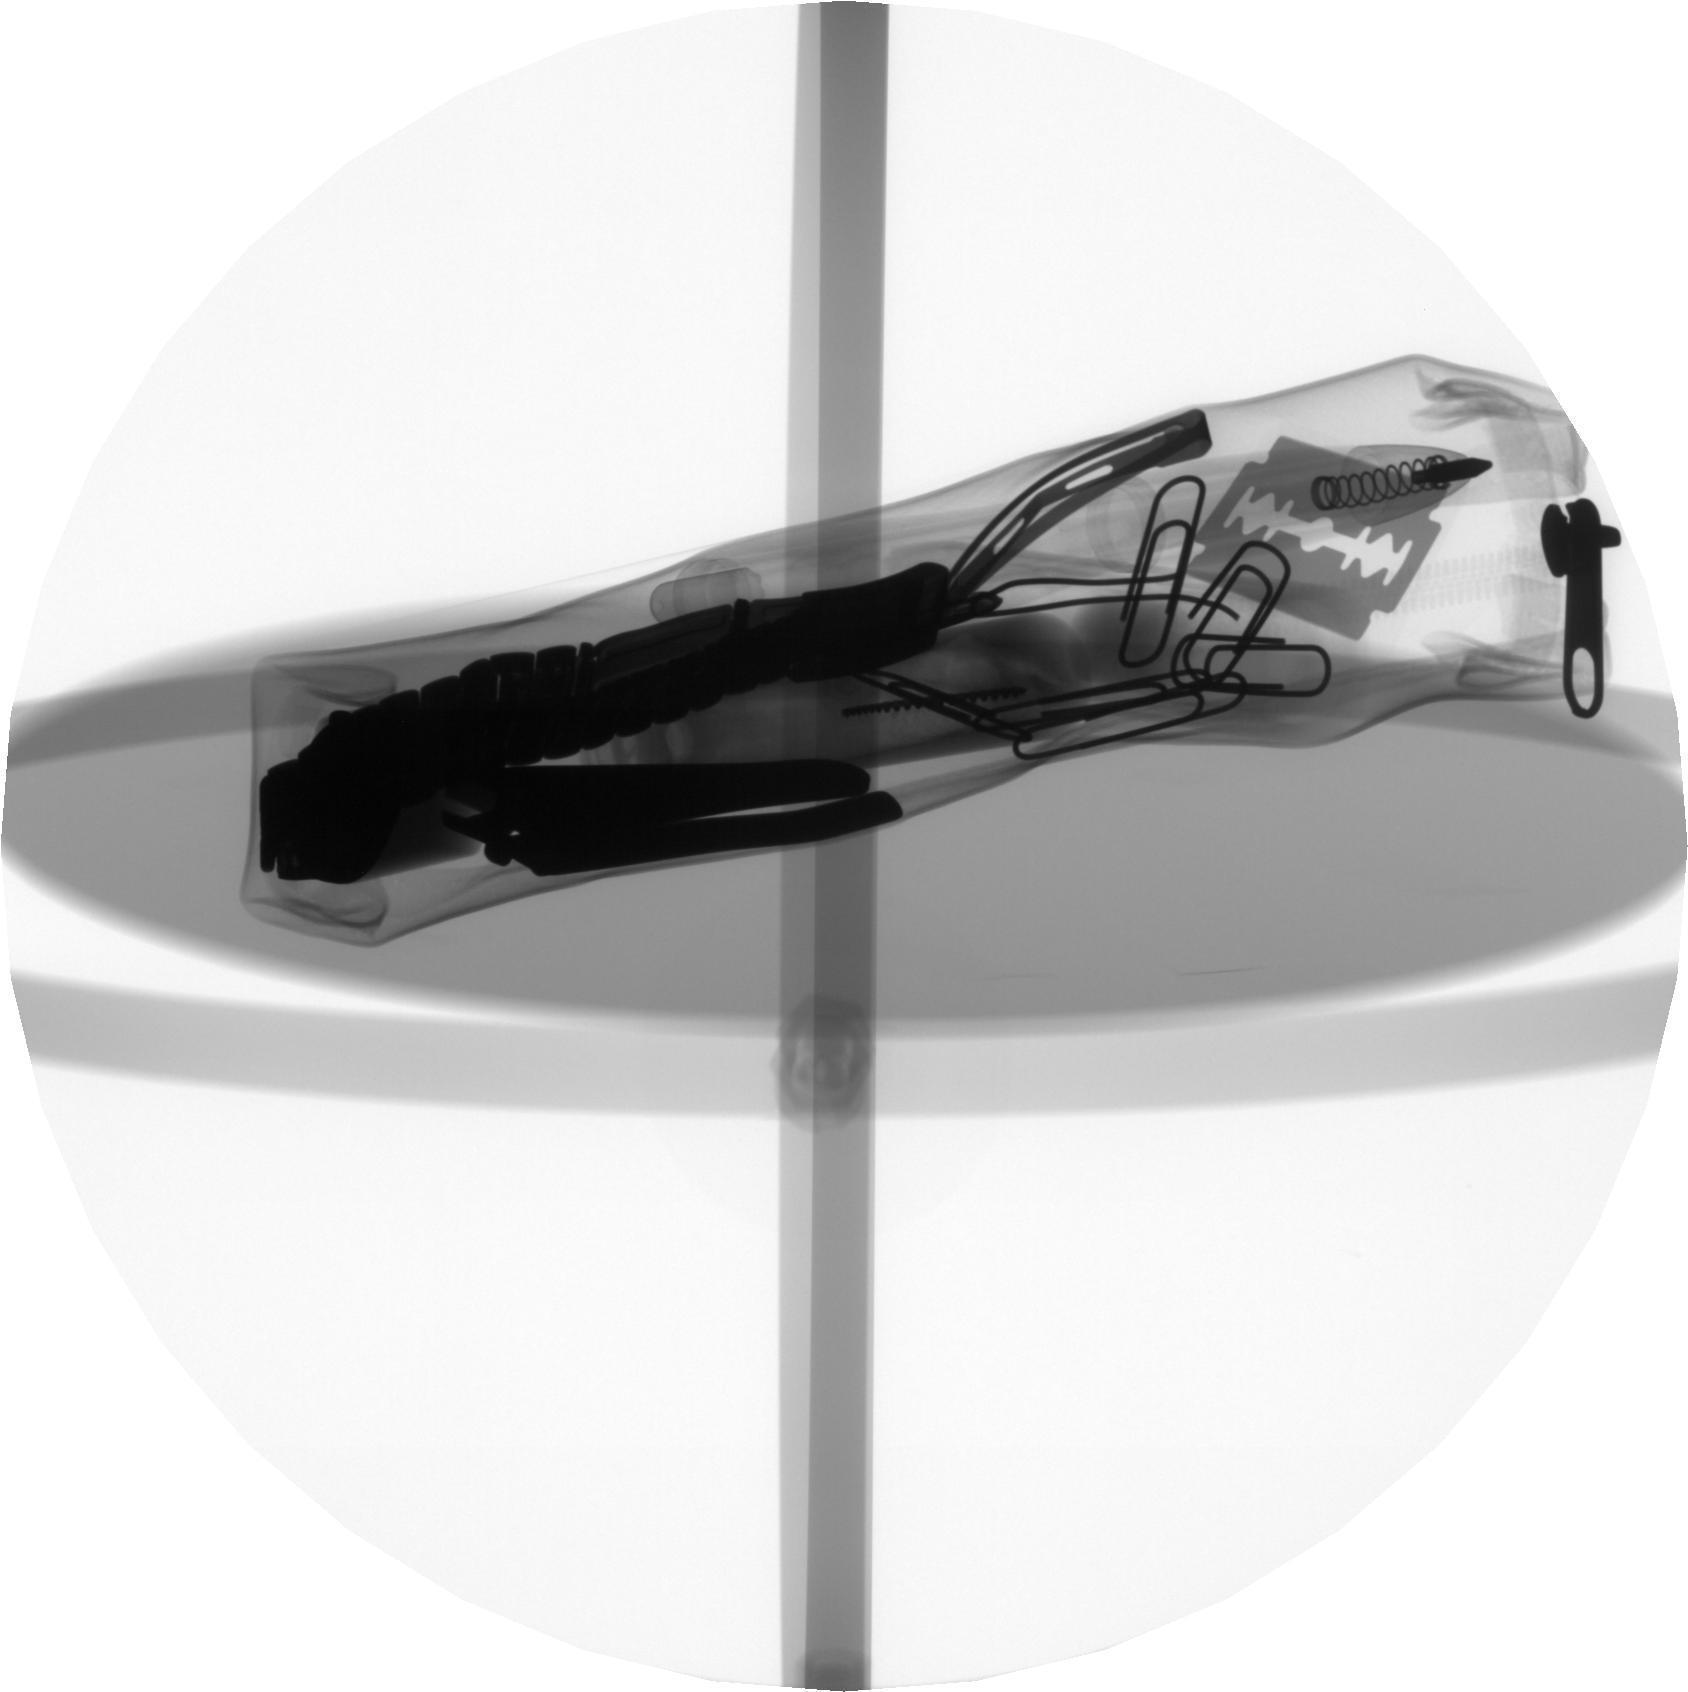RazorBlade: (1183, 437, 1431, 657)
